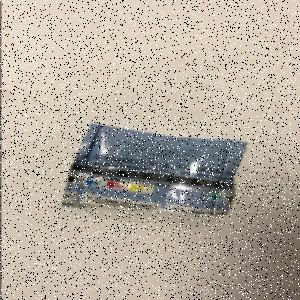Trash: (59, 122, 251, 218)
